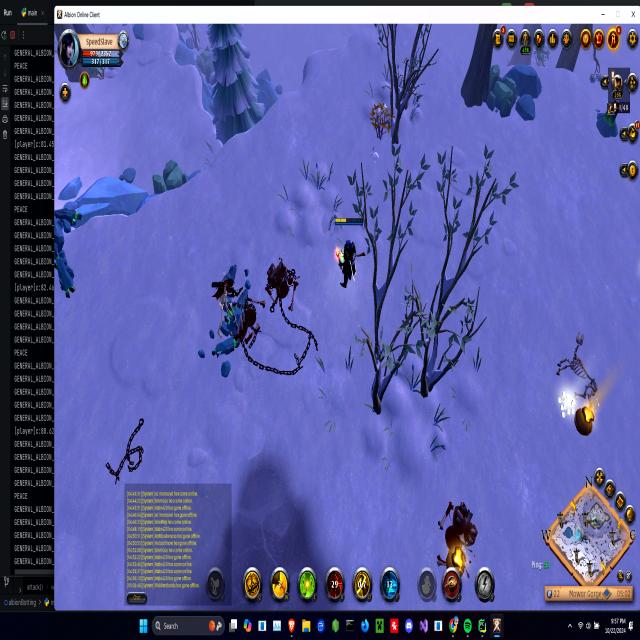hide: (368, 99, 392, 142)
ore: (54, 200, 83, 310), (210, 274, 238, 335)
player: (595, 105, 618, 139)
red: (329, 210, 370, 294)
stone: (558, 382, 576, 424)
tree: (487, 60, 523, 121), (148, 156, 190, 195)
